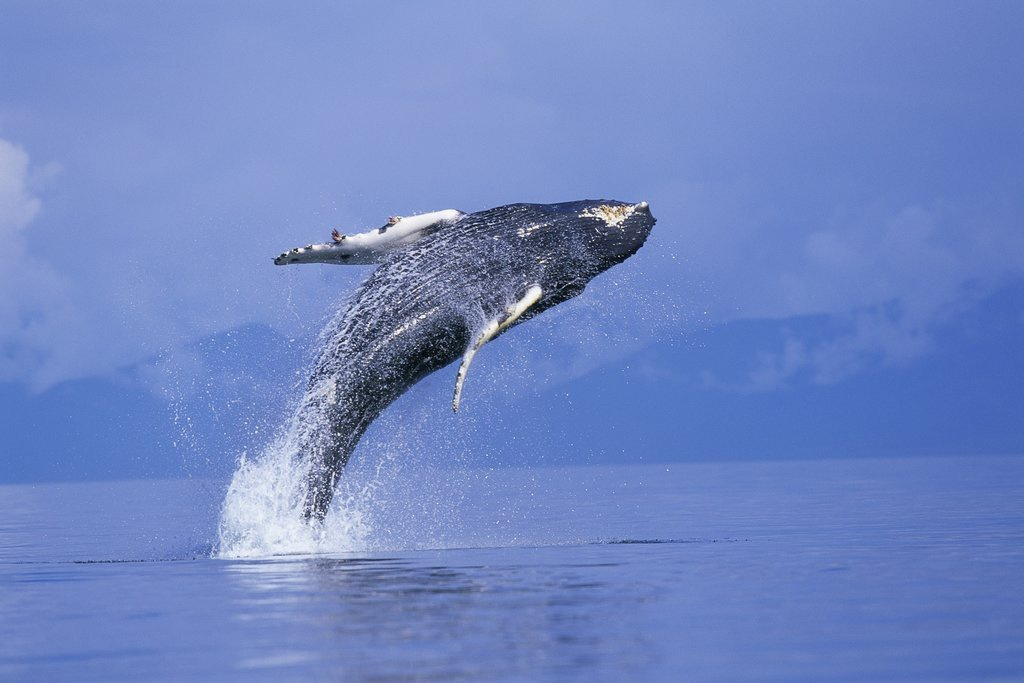humpback: (273, 201, 658, 531)
